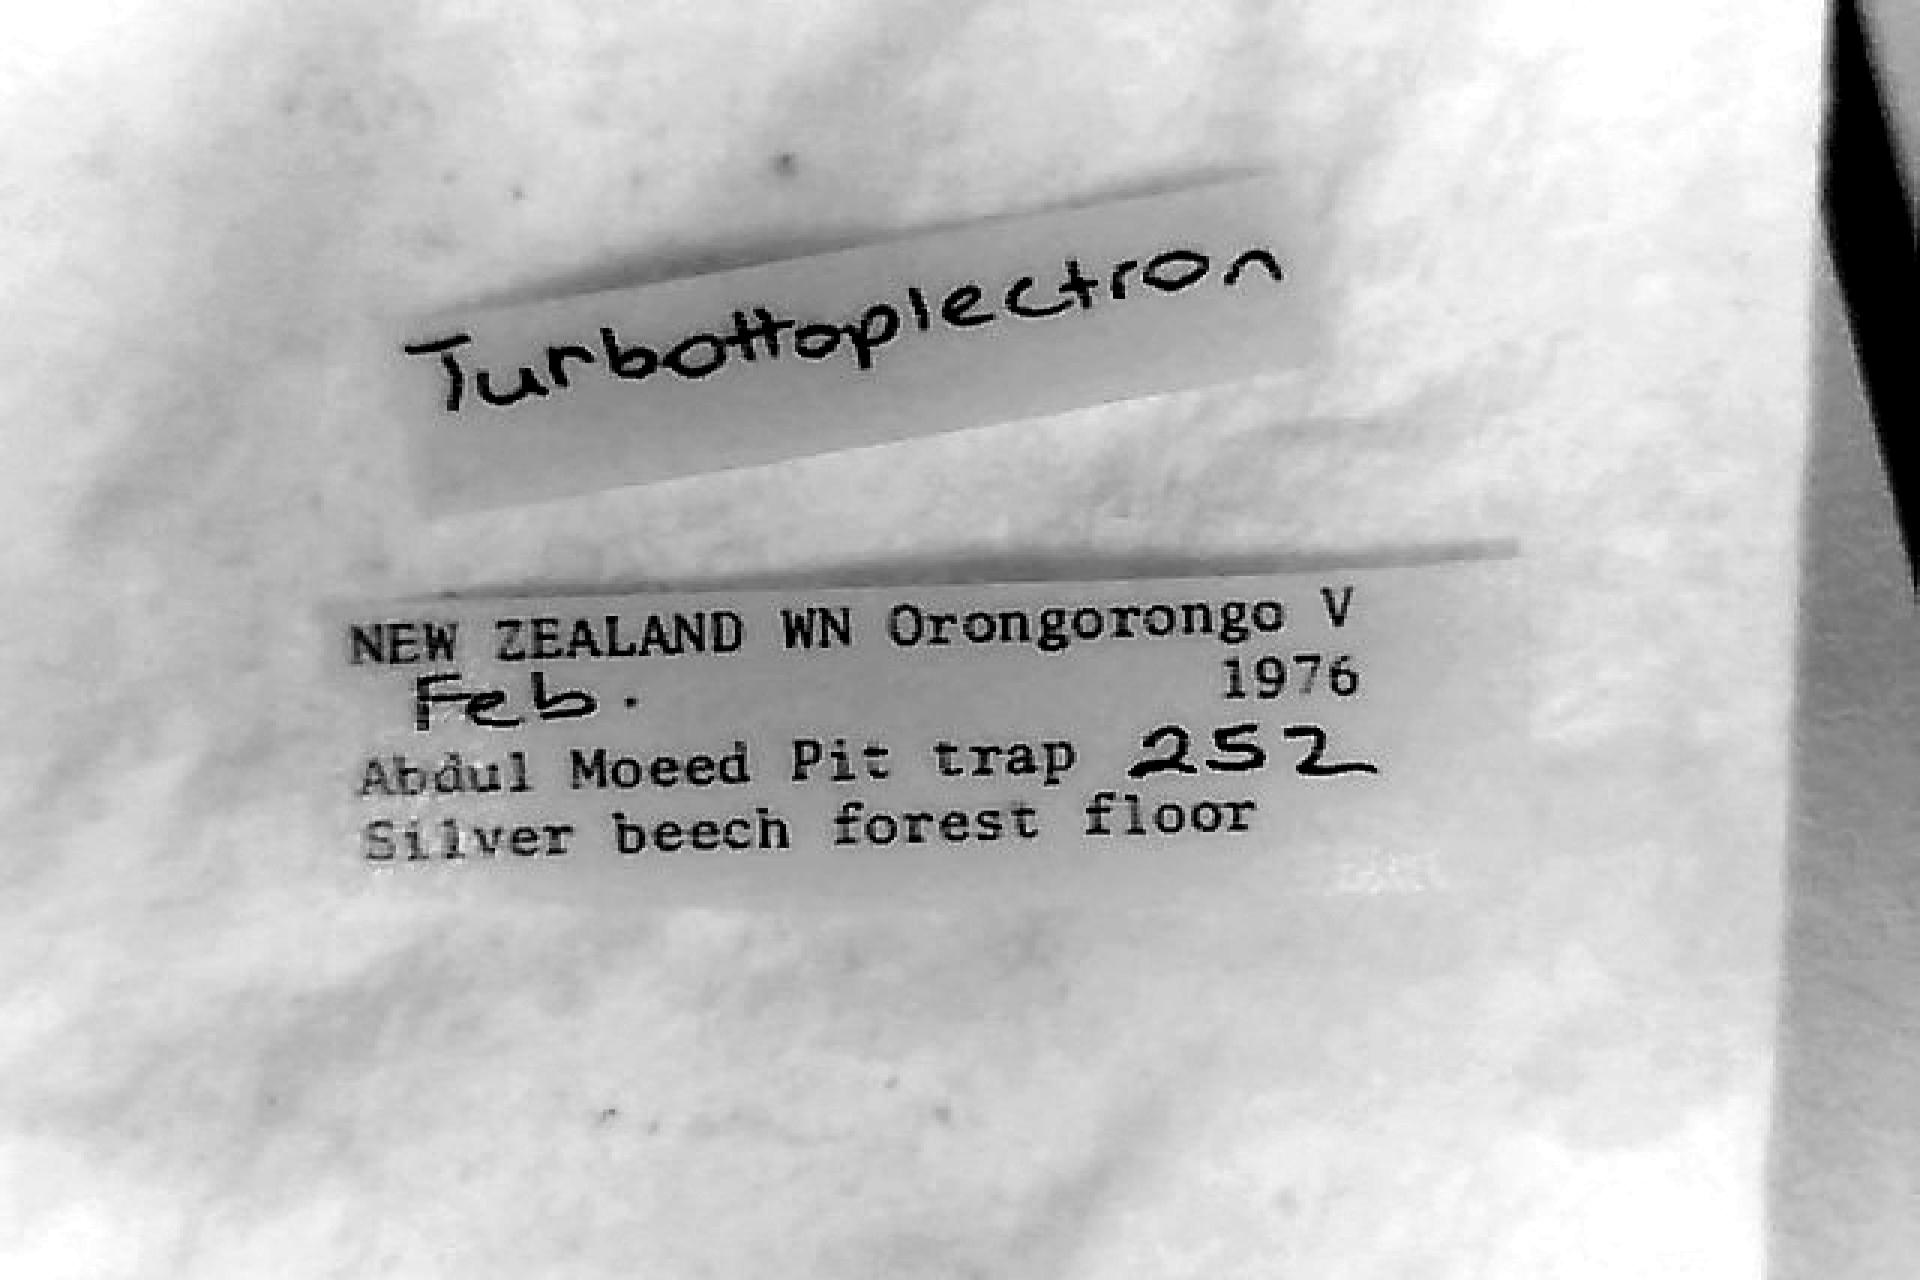hand_label: (405, 177, 1320, 507)
mixed_label: (334, 553, 1519, 903)
